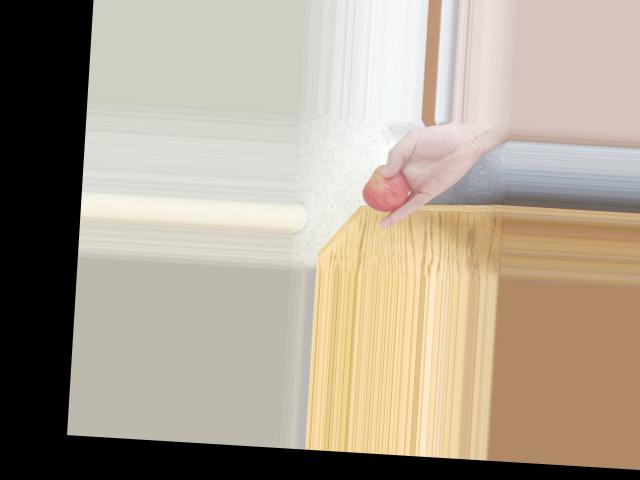apple: (357, 161, 417, 214)
